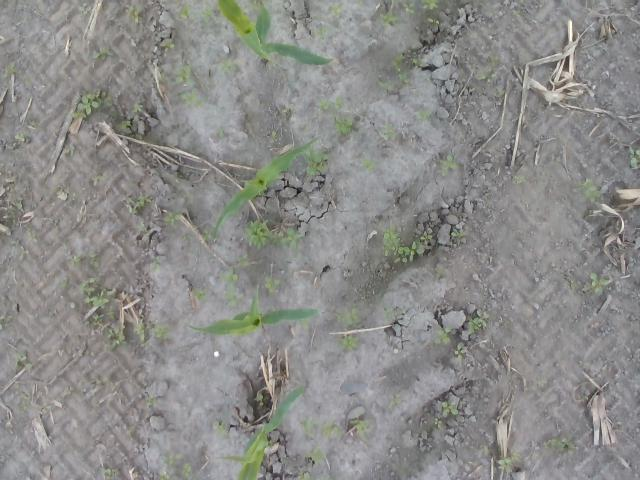Maize: (212, 135, 321, 240), (216, 384, 310, 480), (215, 0, 334, 66), (185, 286, 324, 336)
Weeds: (381, 224, 433, 264), (78, 277, 114, 310), (72, 90, 114, 118), (219, 266, 244, 308), (243, 219, 273, 249), (572, 178, 602, 206), (304, 146, 329, 174), (349, 413, 373, 442), (272, 227, 303, 249), (317, 96, 347, 118), (581, 272, 612, 293), (542, 435, 574, 454), (134, 317, 152, 350), (466, 310, 489, 334), (106, 326, 128, 351), (495, 453, 522, 473), (126, 194, 152, 214), (317, 419, 341, 439), (334, 308, 359, 326), (439, 154, 457, 178), (180, 88, 204, 106), (173, 64, 193, 85), (332, 116, 353, 136), (433, 326, 452, 346), (13, 352, 32, 372), (161, 450, 182, 468), (380, 307, 405, 322), (474, 66, 496, 83), (306, 446, 326, 464), (379, 11, 400, 28), (336, 334, 358, 350), (85, 312, 106, 328), (378, 124, 398, 140), (128, 6, 145, 24), (451, 228, 467, 246), (154, 324, 170, 342), (162, 211, 182, 225), (264, 276, 280, 293), (220, 59, 238, 74), (90, 373, 112, 385), (178, 3, 194, 19), (93, 46, 111, 60), (454, 343, 468, 361), (101, 467, 120, 480), (628, 145, 640, 165), (192, 288, 208, 303), (180, 463, 194, 480), (441, 402, 457, 416), (392, 54, 404, 72), (202, 6, 216, 21), (68, 252, 82, 267), (361, 157, 375, 172), (214, 420, 228, 435), (389, 392, 402, 408), (115, 120, 132, 132), (249, 0, 267, 11), (301, 420, 315, 434), (329, 2, 342, 17), (402, 2, 417, 15), (160, 40, 176, 52), (312, 27, 328, 39), (282, 104, 294, 120), (296, 468, 312, 480), (254, 394, 270, 406), (236, 253, 250, 266), (88, 253, 100, 268), (421, 0, 439, 10), (0, 314, 11, 330), (26, 228, 38, 242), (300, 316, 312, 330), (378, 82, 394, 92), (20, 245, 30, 261), (157, 470, 173, 480), (146, 394, 157, 408), (417, 110, 432, 120), (398, 72, 410, 84), (38, 403, 51, 414), (150, 258, 160, 272), (412, 58, 426, 68), (136, 224, 150, 234), (6, 62, 17, 74), (12, 196, 22, 209), (512, 175, 526, 184), (202, 228, 212, 240), (14, 132, 26, 142), (91, 174, 106, 182), (62, 386, 74, 396), (433, 267, 442, 280), (269, 130, 278, 143), (65, 146, 76, 156), (125, 426, 136, 436), (218, 124, 225, 139), (493, 89, 506, 97), (28, 118, 38, 128), (132, 103, 143, 112), (427, 17, 440, 24), (80, 6, 90, 15), (490, 54, 500, 63), (22, 76, 31, 86), (20, 392, 31, 400), (182, 190, 193, 198), (434, 418, 442, 428), (512, 10, 522, 18), (482, 444, 490, 454), (158, 73, 166, 83), (570, 279, 577, 290), (59, 280, 68, 288), (21, 401, 29, 410), (74, 352, 84, 358), (266, 438, 273, 446), (324, 474, 332, 480), (10, 240, 17, 244)
